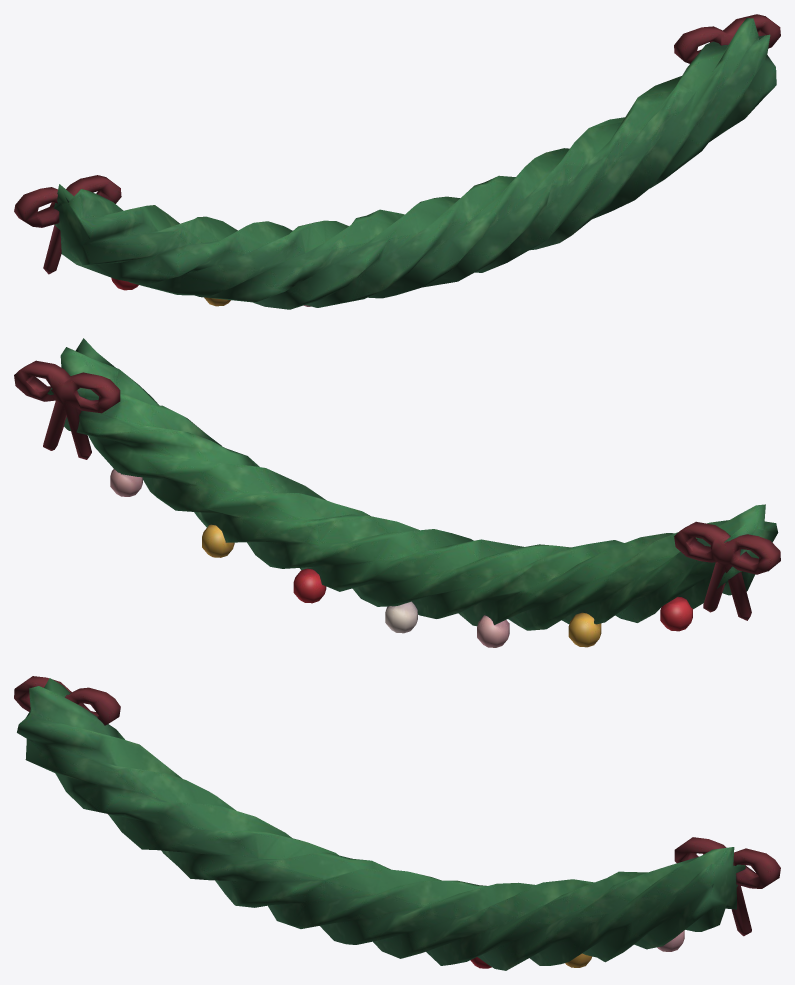
File: garland.glb
3 views of the same model, one above another, from view 1: azimuth 30°, elevation 25°; view 2: azimuth 150°, elevation 25°; view 3: azimuth 330°, elevation 25° (orthographic).
Parts seen in each view (by area): view 1: Rope, Bows; view 2: Rope, Bows, Baubles; view 3: Rope, Bows, Baubles.
Part boxes in pixels (x1,y1,x2,y2): Rope: (53,18,776,309); Bows: (14,14,780,274); Rope: (47,338,778,630); Bows: (14,360,780,620); Baubles: (110,469,692,647); Rope: (17,678,745,970); Bows: (14,676,780,936); Baubles: (108,814,684,968).
Bounding box in the file's own units: 2.21 × 0.5473 × 0.2359.
Materials: 1 (1 with a texture image).
